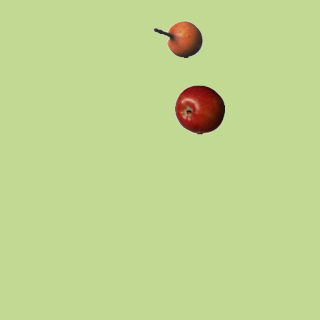Apple Braeburn: (174, 84, 224, 134)
Granadilla: (152, 14, 202, 64)
